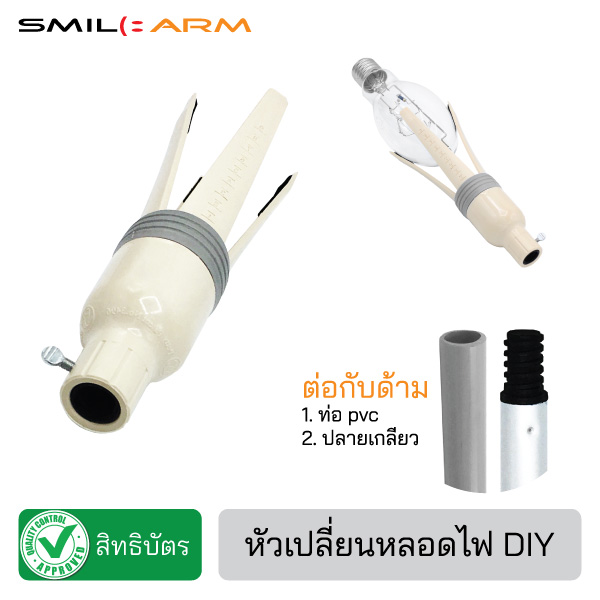Light_bulb: (349, 56, 462, 192)
